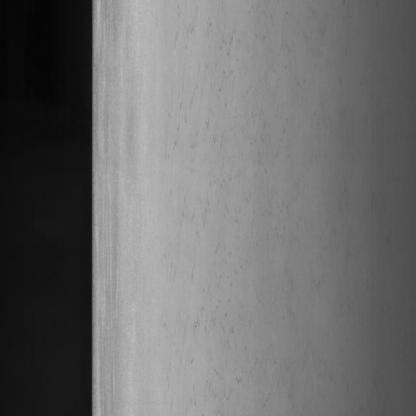silk_spot: (160, 22, 261, 369)
